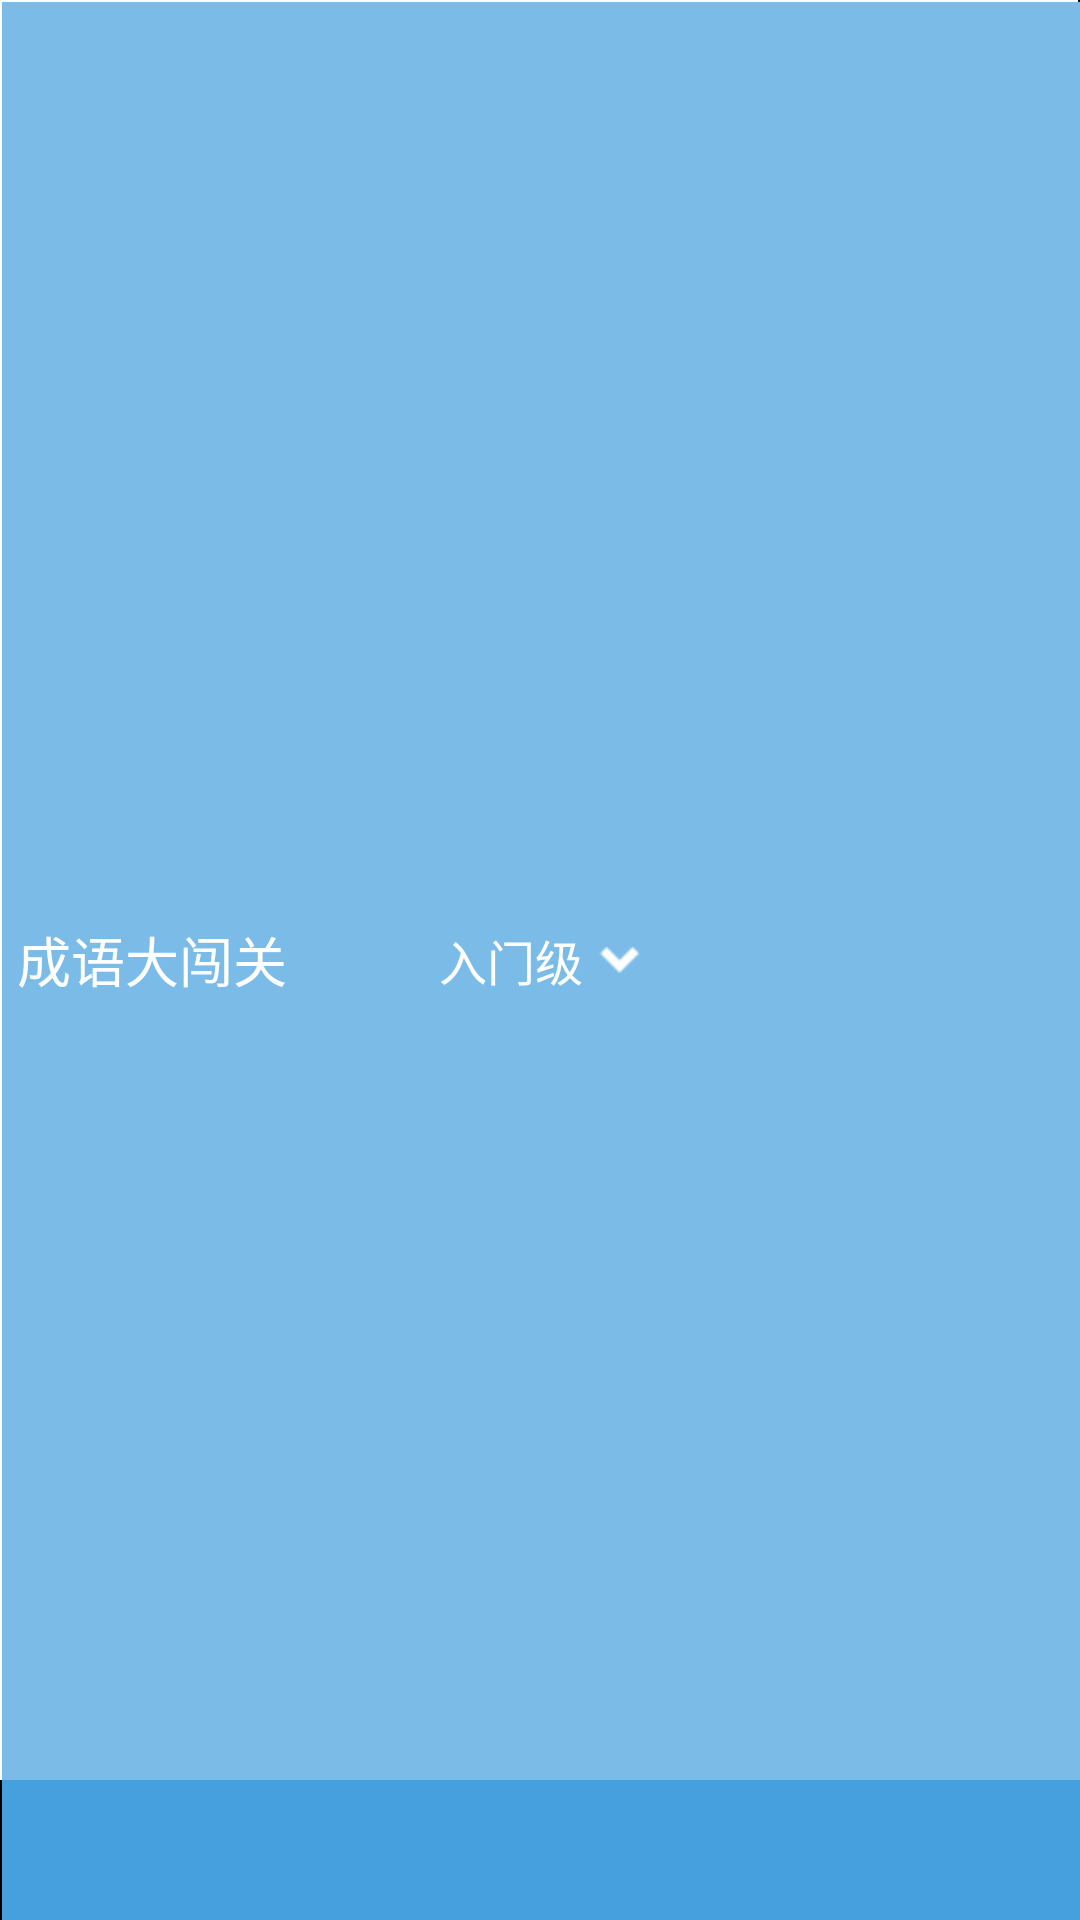

Named icons in this screenshot (1080*1920) and their centers, (x,y):
level fold: (619,960)
